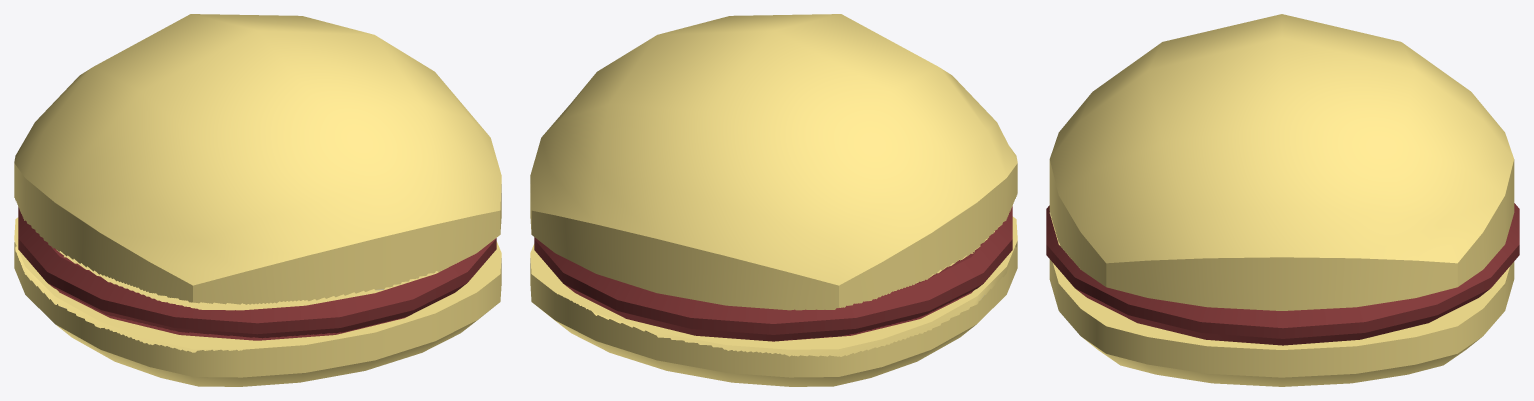
File: hamburger_new.FBX
The picture shows the model from 3 angles, left to right: view 1: azimuth 30°, elevation 25°; view 2: azimuth 150°, elevation 25°; view 3: azimuth 270°, elevation 25°; orthographic projection.
Parts seen in each view (by area): view 1: up bread; view 2: up bread; view 3: up bread.
Boxes of the visible parts, x1,y1,x2,y2 form: up bread: (14, 14, 501, 386); up bread: (530, 14, 1017, 386); up bread: (1046, 14, 1519, 386).
Size of the model in its own units: 53.63 by 32.72 by 52.82.
1 material, 1 textured.
